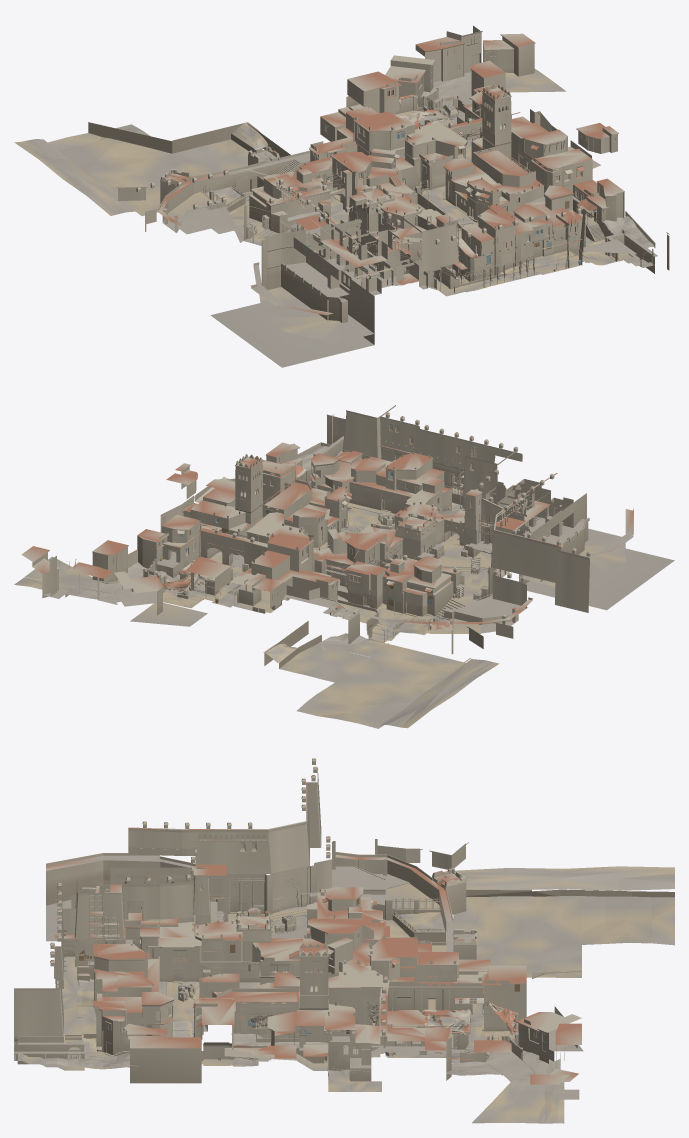
Rendered from cs_mirage_opt.glb.
The picture shows the model from 3 angles, top to bottom: view 1: azimuth 30°, elevation 25°; view 2: azimuth 150°, elevation 25°; view 3: azimuth 270°, elevation 25°; orthographic projection. The views are drawn at different scales.
Visible parts, largest first — view 1: bloque_59, bloque_31, bloque_25, bloque_49, bloque_1, bloque_10, bloque_46, bloque_3, bloque_71, bloque_9, bloque_79, bloque_76 (+50 smaller); view 2: bloque_59, bloque_30, bloque_4, bloque_63, bloque_38, bloque_27, bloque_52, bloque_9, bloque_28, bloque_25, bloque_26, bloque_15 (+57 smaller); view 3: bloque_21, bloque_0, bloque_76, bloque_2, bloque_37, bloque_9, bloque_25, bloque_36, bloque_34, bloque_14, bloque_12, bloque_31 (+61 smaller).
Boxes of the visible parts, box(x1,y1,x2,y2) form: bloque_59: box(210, 247, 374, 367); bloque_31: box(320, 209, 449, 293); bloque_25: box(261, 179, 353, 319); bloque_49: box(435, 208, 520, 288); bloque_1: box(457, 203, 580, 272); bloque_10: box(402, 137, 485, 210); bloque_46: box(415, 25, 535, 95); bloque_3: box(388, 222, 486, 296); bloque_71: box(251, 230, 348, 315); bloque_9: box(422, 84, 517, 173); bloque_79: box(67, 122, 210, 161); bloque_76: box(14, 137, 115, 193); bloque_59: box(522, 509, 674, 610); bloque_30: box(268, 532, 414, 616); bloque_4: box(363, 560, 451, 623); bloque_63: box(492, 530, 589, 601); bloque_38: box(128, 514, 199, 589); bloque_27: box(454, 469, 546, 565); bloque_52: box(268, 543, 336, 609); bloque_9: box(220, 454, 299, 551); bloque_28: box(374, 497, 474, 560); bloque_25: box(488, 473, 584, 582); bloque_26: box(172, 556, 283, 607); bloque_15: box(321, 475, 418, 533); bloque_21: box(191, 821, 307, 925); bloque_0: box(130, 866, 358, 1083); bloque_76: box(509, 866, 674, 908); bloque_2: box(383, 952, 483, 1027); bloque_37: box(326, 997, 424, 1091); bloque_9: box(257, 943, 358, 1070); bloque_25: box(103, 821, 252, 911); bloque_36: box(141, 931, 252, 1001); bloque_34: box(267, 824, 332, 916); bloque_14: box(196, 988, 299, 1054); bloque_12: box(84, 992, 170, 1069); bloque_31: box(71, 867, 193, 943).
Size of the model in its own units: 150 by 31.98 by 150.
